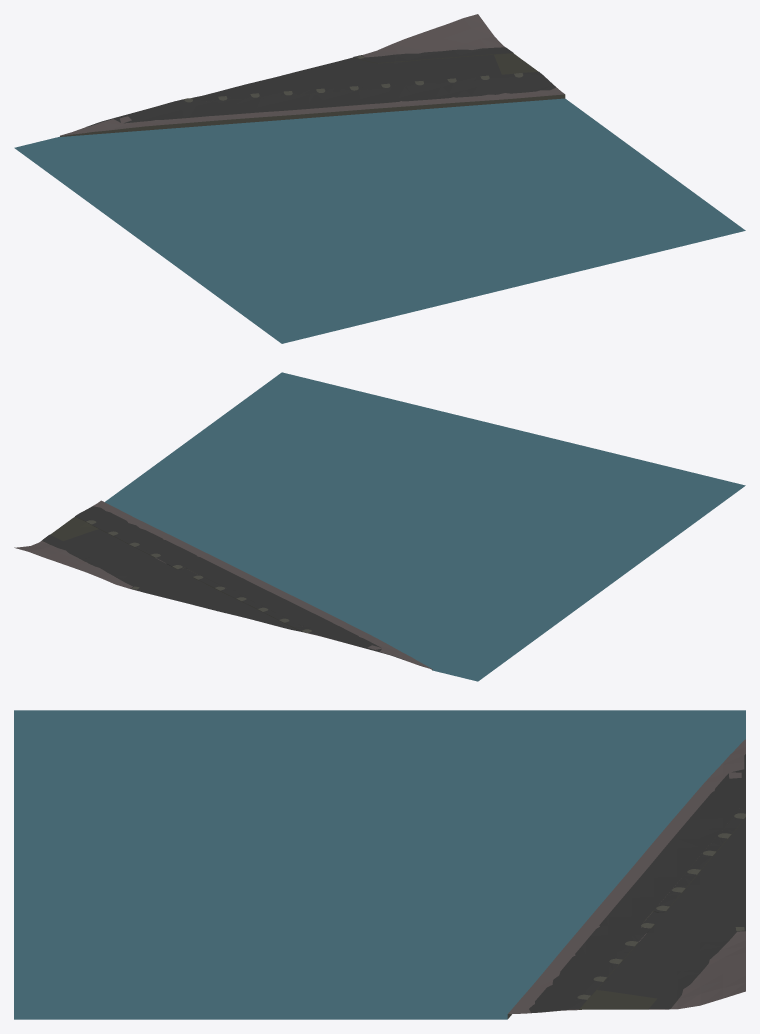
3 views of the same model, one above another, from view 1: azimuth 30°, elevation 25°; view 2: azimuth 150°, elevation 25°; view 3: azimuth 270°, elevation 25° (orthographic). The views are drawn at different scales.
Visible parts, largest first — view 1: c_m03_m07; view 2: c_m03_m07; view 3: c_m03_m07.
Boxes of the visible parts, box(x1,y1,x2,y2) form: c_m03_m07: box(14, 14, 745, 343); c_m03_m07: box(14, 372, 745, 681); c_m03_m07: box(14, 710, 745, 1019).
Size of the model in its own units: 128 by 5.44 by 128.
